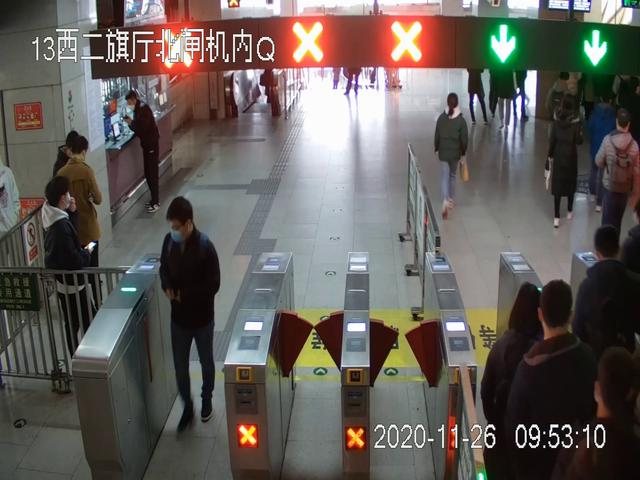person: (507, 280, 608, 480), (160, 196, 221, 436), (41, 177, 94, 372), (55, 135, 104, 319), (593, 110, 640, 252), (124, 88, 163, 215), (433, 92, 470, 219), (545, 95, 578, 229)
